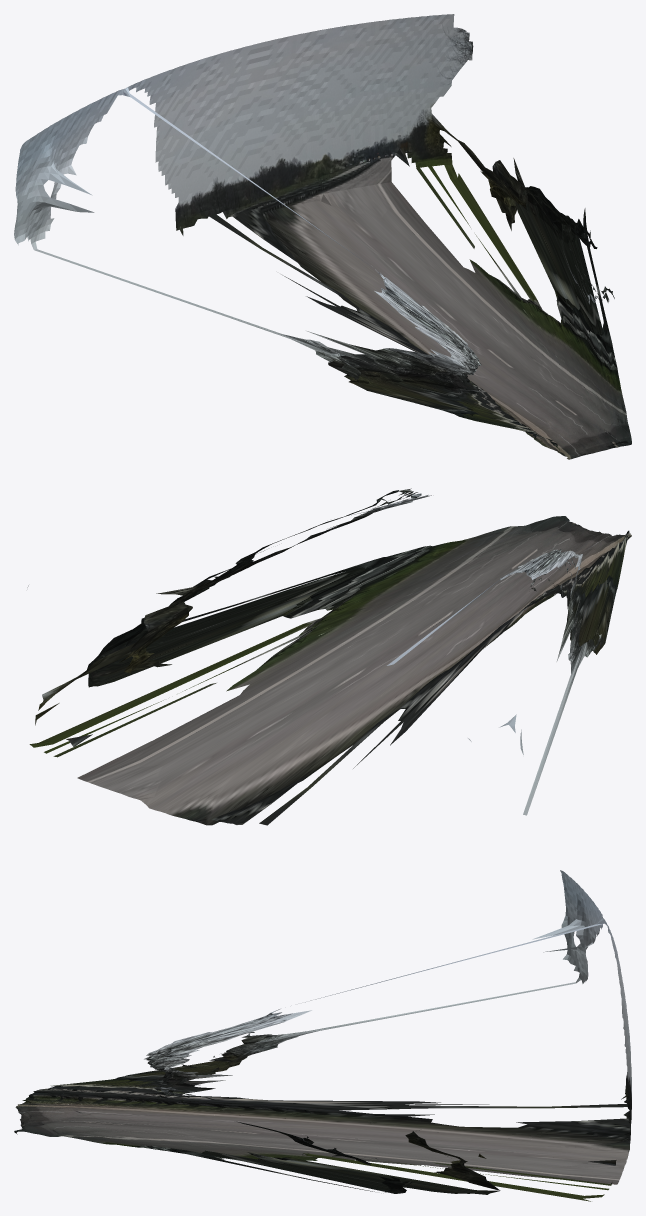
3 views of the same model, one above another, from view 1: azimuth 30°, elevation 25°; view 2: azimuth 150°, elevation 25°; view 3: azimuth 270°, elevation 25° (orthographic). The views are drawn at different scales.
Visible parts, largest first — view 1: defaultobject; view 2: defaultobject; view 3: defaultobject.
Part boxes in pixels (bbox=[...]): defaultobject: bbox=[14, 14, 631, 459]; defaultobject: bbox=[27, 488, 631, 825]; defaultobject: bbox=[14, 870, 631, 1201].
Bounding box in the file's own units: 35.83 × 12.82 × 44.71.
Materials: 1 (1 with a texture image).
